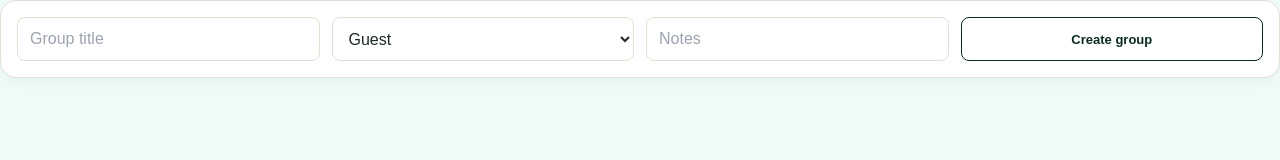
Scenario: reservation group submission recovery › preserves the draft and permits retry after network
This screenshot has width=1280, height=160.
Type "Family stay" into the field with placeholder "Group title" at (168, 39), box x1=17 y1=17 x2=320 y2=61
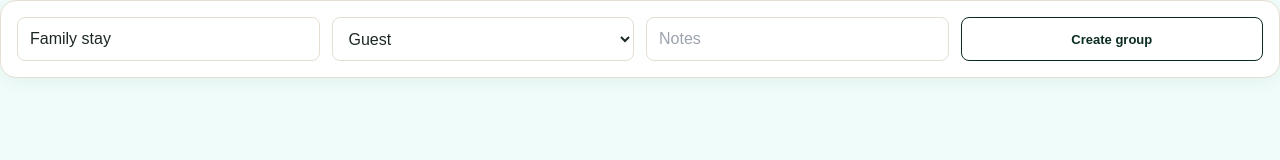
Select "Test Guest" in the dropdown at (483, 39), box x1=332 y1=17 x2=634 y2=61
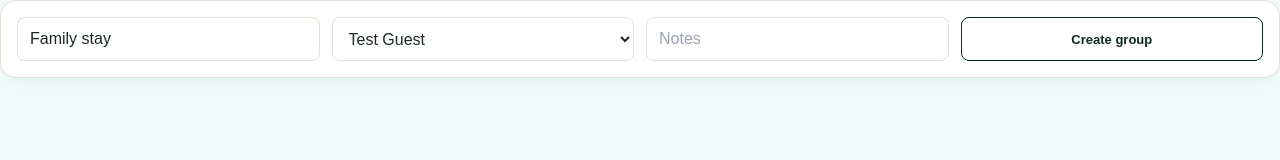
Type "Keep this draft" into the field with placeholder "Notes" at (797, 39), box x1=646 y1=17 x2=948 y2=61
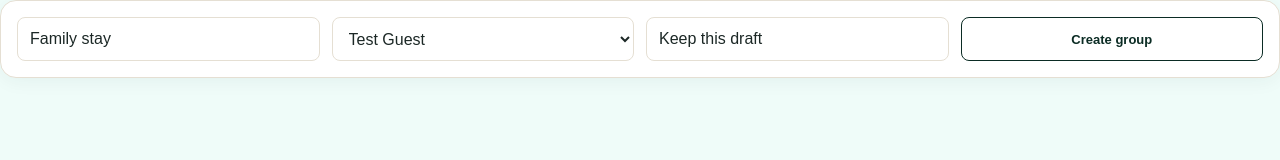
Submit the form, box x1=0 y1=0 x2=1279 y2=78
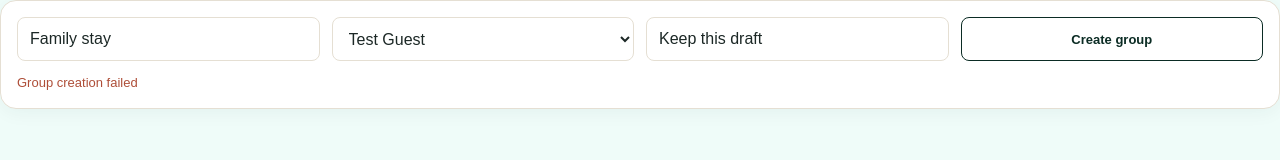
expect the button "Create group" is enabled: met, box x1=960 y1=17 x2=1263 y2=61
expect the message reads "Group creation failed": met, box x1=17 y1=75 x2=138 y2=90
Submit the form
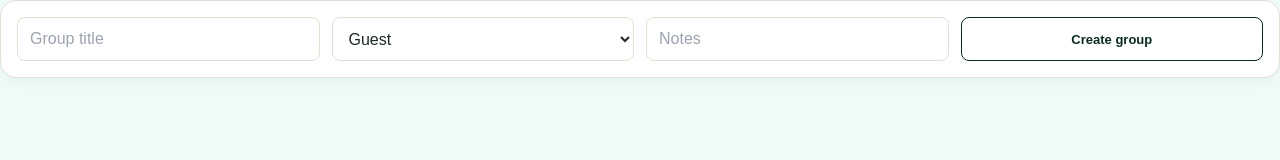
expect the message "Group creation failed" is gone: met
